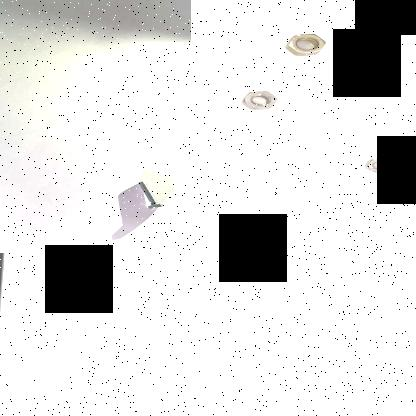Bolts: (132, 178, 168, 212)
NUTS: (278, 24, 338, 60), (236, 86, 286, 114), (360, 154, 399, 178)
